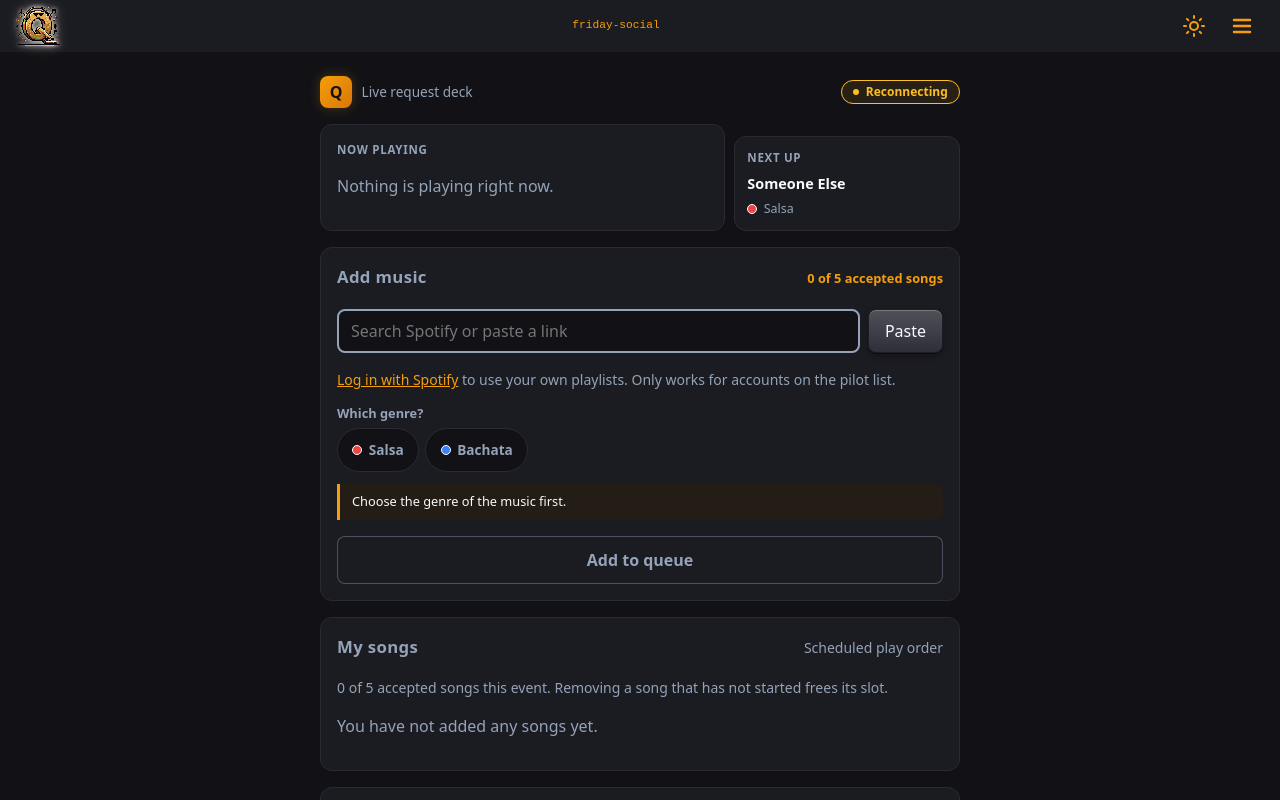
Test: live deck › pastes from the clipboard, and says so when it cannot
Click the button "Paste" at (905, 332), box [868,310,943,354]
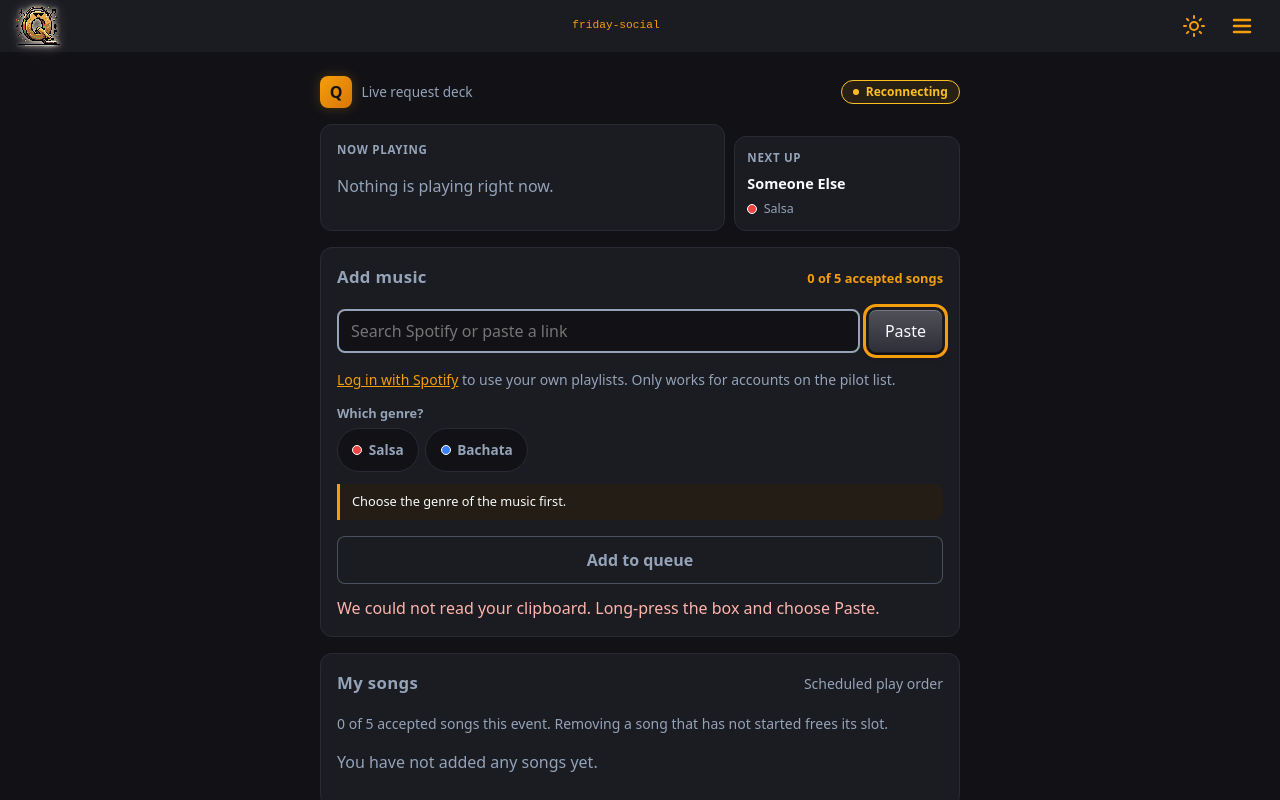
Expected: the message "We could not read your clipboard. Long-press the box and choose Paste." is shown, [337,596,943,620]
Type "abc" into the field labelled "Search Spotify or paste a link" at (598, 332), box [337,310,860,354]
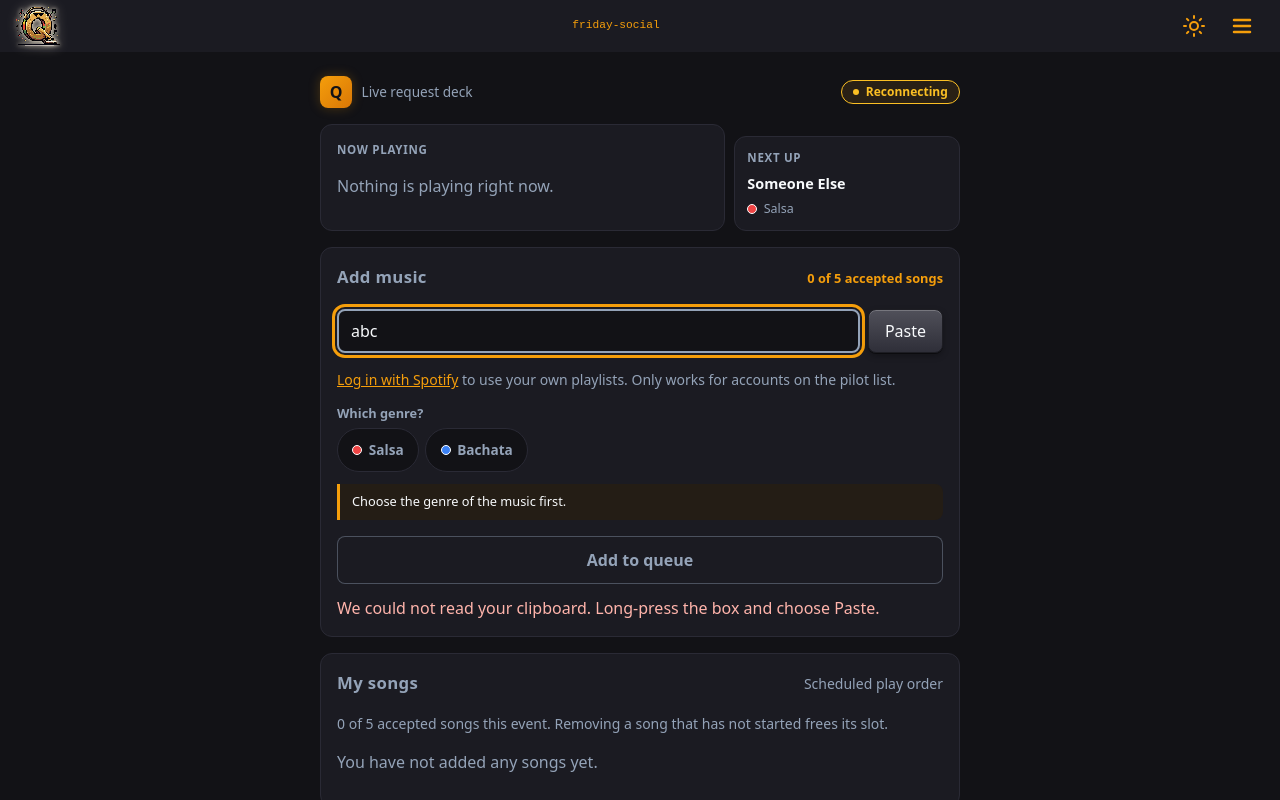
Clear the field named "Search Spotify or paste a link" at (598, 332), box [337,310,860,354]
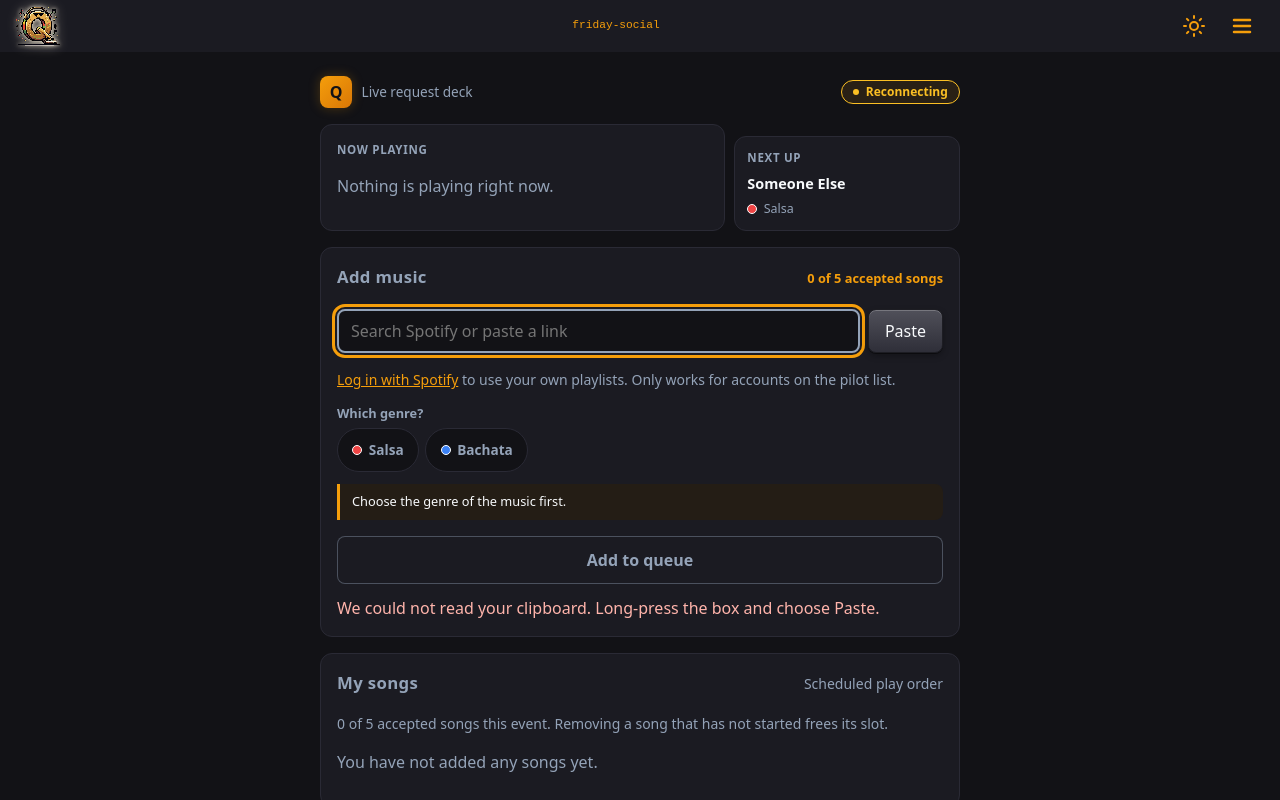
Click the button "Paste" at (905, 332), box [868,310,943,354]
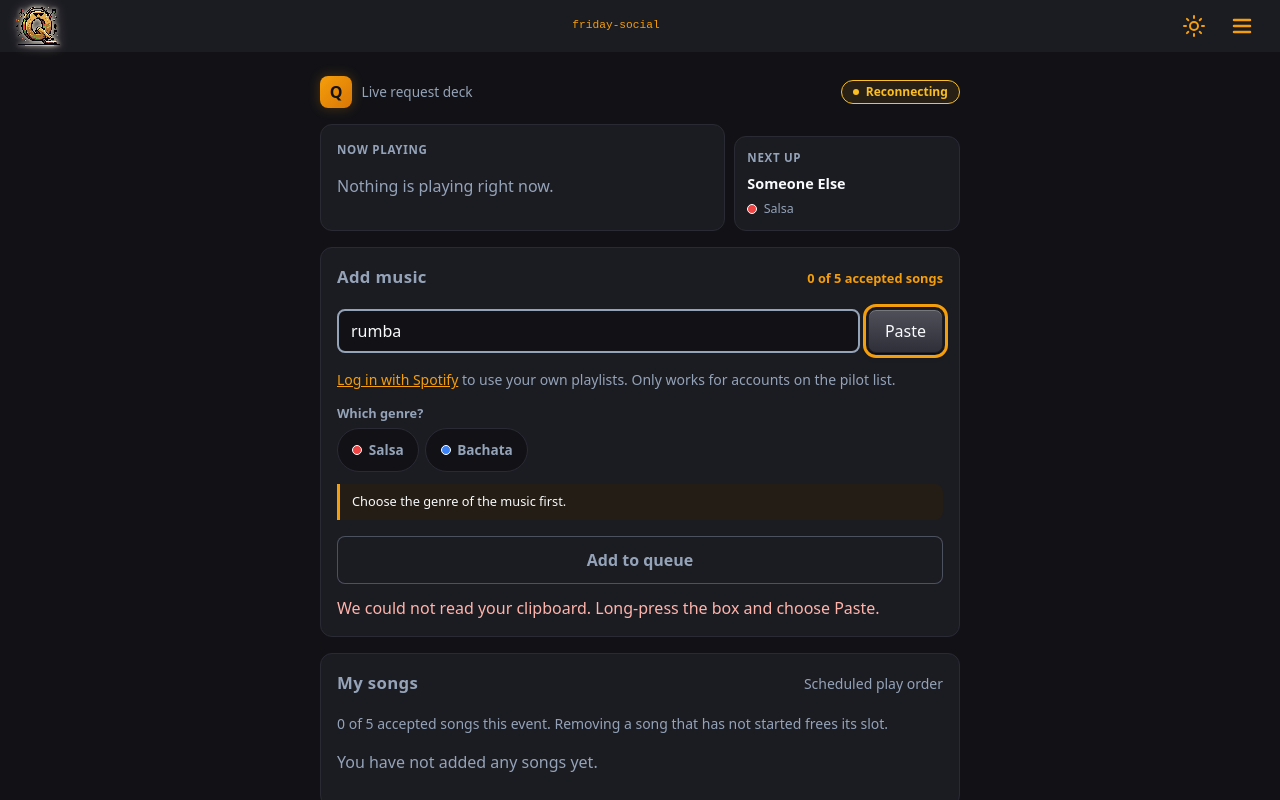
Expected: the field named "Search Spotify or paste a link" holds "rumba", [337,310,860,354]
